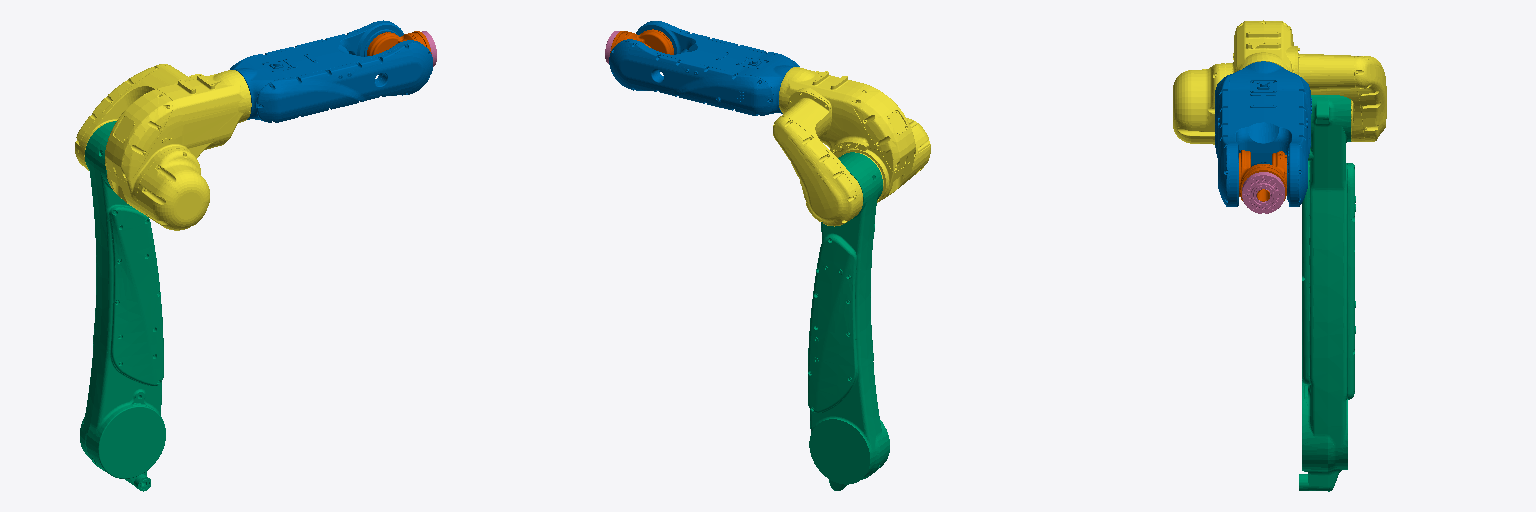
The robot description file, URDF, robot "mz25":
<?xml version="1.0" encoding="utf-8"?>
<!-- =================================================================================== -->
<!-- |    This document was autogenerated by xacro from mz25_arm.urdf.xacro            | -->
<!-- |    EDITING THIS FILE BY HAND IS NOT RECOMMENDED                                 | -->
<!-- =================================================================================== -->
<robot name="mz25">
  <!-- for simulation -->
  <!--  <xacro:include filename="$(find franka_description)/robots/panda.gazebo.xacro"/>-->
  <!--  <xacro:include filename="panda.transmission.xacro"/>-->
  <!-- end for simulation -->
  <!-- for simulation -->
  <!--    <link name="world" />-->
  <!--    <joint name="robot_to_world" type="fixed">-->
  <!--      <parent link="world" />-->
  <!--      <child link="${arm_id}_link0" />-->
  <!--      <origin xyz="0.0 0.0 0.0" rpy="0.0 0.0 0.0" />-->
  <!--    </joint>-->
  <!-- end for simulation -->

  <mujoco>
    <compiler meshdir="[local-path]/RoRL/roworld/envs/assets/mz25_sim/meshes/"
              balanceinertia="true"
              strippath="false"
              discardvisual="false"/>
  </mujoco>

  <link name="mz25_link0">
    <visual>
      <geometry>
        <mesh filename="visual/link0.stl"/>
      </geometry>
    </visual>
    <collision>
      <geometry>
        <mesh filename="collision/link0.stl"/>
      </geometry>
    </collision>
    <!-- for simulation -->
    <inertial>
      <origin rpy="0 0 0" xyz="0 0 0"/>
      <mass value="3.06"/>
      <inertia ixx="0.3" ixy="0.0" ixz="0.0" iyy="0.3" iyz="0.0" izz="0.3"/>
    </inertial>
    <!-- end for simulation -->
  </link>
  <link name="mz25_link1">
    <visual>
      <geometry>
        <mesh filename="visual/link1.stl"/>
      </geometry>
    </visual>
    <collision>
      <geometry>
        <mesh filename="collision/link1.stl"/>
      </geometry>
    </collision>
    <!-- for simulation -->
    <inertial>
      <origin rpy="0 0 0" xyz="0 0 0"/>
      <mass value="2.34"/>
      <inertia ixx="0.3" ixy="0.0" ixz="0.0" iyy="0.3" iyz="0.0" izz="0.3"/>
    </inertial>
    <!-- end for simulation -->
  </link>
  <joint name="mz25_joint1" type="revolute">
    <safety_controller k_position="100.0" k_velocity="40.0" soft_lower_limit="-2.97" soft_upper_limit="2.97"/>
    <origin rpy="0 0 0" xyz="0 0 0.2495"/>
    <parent link="mz25_link0"/>
    <child link="mz25_link1"/>
    <axis xyz="0 0 1"/>
    <limit effort="400" lower="-2.97" upper="2.97" velocity="3.67"/>
    <!-- for simulation -->
    <dynamics damping="1.0"/>
    <!-- end for simulation -->
  </joint>
  <link name="mz25_link2">
    <visual>
      <geometry>
        <mesh filename="visual/link2.stl"/>
      </geometry>
    </visual>
    <collision>
      <geometry>
        <mesh filename="collision/link2.stl"/>
      </geometry>
    </collision>
    <!-- for simulation -->
    <inertial>
      <origin rpy="0 0 0" xyz="0 0 0"/>
      <mass value="23.6"/>
      <inertia ixx="0.3" ixy="0.0" ixz="0.0" iyy="0.3" iyz="0.0" izz="0.3"/>
    </inertial>
    <!-- end for simulation -->
  </link>
  <joint name="mz25_joint2" type="revolute">
    <safety_controller k_position="100.0" k_velocity="40.0" soft_lower_limit="-2.62" soft_upper_limit="1.83"/>
    <origin rpy="0 0 -1.57079632679" xyz="0.17 0.157 0.3005"/>
    <parent link="mz25_link1"/>
    <child link="mz25_link2"/>
    <axis xyz="1 0 0"/>
    <limit effort="400" lower="-2.62" upper="1.83" velocity="3.23"/>
    <!-- for simulation -->
    <dynamics damping="1.0"/>
    <!-- end for simulation -->
  </joint>
  <link name="mz25_link3">
    <visual>
      <geometry>
        <mesh filename="visual/link3.stl"/>
      </geometry>
    </visual>
    <collision>
      <geometry>
        <mesh filename="collision/link3.stl"/>
      </geometry>
    </collision>
    <!-- for simulation -->
    <inertial>
      <origin rpy="0 0 0" xyz="0 0 0"/>
      <mass value="23.8"/>
      <inertia ixx="0.3" ixy="0.0" ixz="0.0" iyy="0.3" iyz="0.0" izz="0.3"/>
    </inertial>
    <!-- end for simulation -->
  </link>
  <joint name="mz25_joint3" type="revolute">
    <safety_controller k_position="100.0" k_velocity="40.0" soft_lower_limit="-1.43" soft_upper_limit="3.21"/>
    <origin rpy="0 0 1.57079632679" xyz="0.157 0 0.88"/>
    <parent link="mz25_link2"/>
    <child link="mz25_link3"/>
    <axis xyz="0 -1 0"/>
    <limit effort="400" lower="-1.43" upper="3.21" velocity="4.71"/>
    <!-- for simulation -->
    <dynamics damping="1.0"/>
    <!-- end for simulation -->
  </joint>
  <link name="mz25_link4">
    <visual>
      <geometry>
        <mesh filename="visual/link4.stl"/>
      </geometry>
    </visual>
    <collision>
      <geometry>
        <mesh filename="collision/link4.stl"/>
      </geometry>
    </collision>
    <!-- for simulation -->
    <inertial>
      <origin rpy="0 0 0" xyz="0 0 0"/>
      <mass value="24.3"/>
      <inertia ixx="0.3" ixy="0.0" ixz="0.0" iyy="0.3" iyz="0.0" izz="0.3"/>
    </inertial>
    <!-- end for simulation -->
  </link>
  <joint name="mz25_joint4" type="revolute">
    <safety_controller k_position="100.0" k_velocity="40.0" soft_lower_limit="-3.32" soft_upper_limit="3.32"/>
    <origin rpy="0 0 0" xyz="0.81 0 0.19"/>
    <parent link="mz25_link3"/>
    <child link="mz25_link4"/>
    <axis xyz="1 0 0"/>
    <limit effort="400" lower="-3.32" upper="3.32" velocity="7.33"/>
    <!-- for simulation -->
    <dynamics damping="1.0"/>
    <!-- end for simulation -->
  </joint>
  <link name="mz25_link5">
    <visual>
      <geometry>
        <mesh filename="visual/link5.stl"/>
      </geometry>
    </visual>
    <collision>
      <geometry>
        <mesh filename="collision/link5.stl"/>
      </geometry>
    </collision>
    <!-- for simulation -->
    <inertial>
      <origin rpy="0 0 0" xyz="0 0 0"/>
      <mass value="35"/>
      <inertia ixx="0.3" ixy="0.0" ixz="0.0" iyy="0.3" iyz="0.0" izz="0.3"/>
    </inertial>
    <!-- end for simulation -->
  </link>
  <joint name="mz25_joint5" type="revolute">
    <safety_controller k_position="100.0" k_velocity="40.0" soft_lower_limit="-2.53" soft_upper_limit="2.53"/>
    <origin rpy="0 0 0" xyz="0 0 0"/>
    <parent link="mz25_link4"/>
    <child link="mz25_link5"/>
    <axis xyz="0 -1 0"/>
    <limit effort="60" lower="-2.53" upper="2.53" velocity="7.33"/>
    <!-- for simulation -->
    <dynamics damping="1.0"/>
    <!-- end for simulation -->
  </joint>
  <link name="mz25_link6">
    <visual>
      <geometry>
        <mesh filename="visual/link6.stl"/>
      </geometry>
    </visual>
    <collision>
      <geometry>
        <mesh filename="collision/link6.stl"/>
      </geometry>
    </collision>
    <!-- for simulation -->
    <inertial>
      <origin rpy="0 0 0" xyz="0 0 0"/>
      <mass value="1.47"/>
      <inertia ixx="0.3" ixy="0.0" ixz="0.0" iyy="0.3" iyz="0.0" izz="0.3"/>
    </inertial>
    <!-- end for simulation -->
  </link>
  <joint name="mz25_joint6" type="revolute">
    <safety_controller k_position="100.0" k_velocity="40.0" soft_lower_limit="-6.28" soft_upper_limit="6.28"/>
    <origin rpy="0 0 0" xyz="0.101 0 0"/>
    <parent link="mz25_link5"/>
    <child link="mz25_link6"/>
    <axis xyz="1 0 0"/>
    <limit effort="12" lower="-6.28" upper="6.28" velocity="11.73"/>
    <!-- for simulation -->
    <dynamics damping="1.0"/>
    <!-- end for simulation -->
  </joint>
  <!--  <xacro:panda_gazebo robot_name="$(arg robot_name)" />-->
  <!--  <xacro:panda_transmission robot_name="$(arg robot_name)" load_hand="false" />-->
  <!-- end for simulation -->
</robot>

--- What the picture shows (computed from the rendered views, not written in the file) ---
3 views of the same robot in one strip: view 1: azimuth 30°, elevation 25°; view 2: azimuth 150°, elevation 25°; view 3: azimuth 270°, elevation 25° (orthographic).
Robot: mz25 — 7 links, 6 joints (6 revolute); root link mz25_link0; default pose: every joint at zero.
Visible links, largest first — view 1: mz25_link2, mz25_link3, mz25_link4, mz25_link5; view 2: mz25_link2, mz25_link3, mz25_link4, mz25_link5; view 3: mz25_link2, mz25_link3, mz25_link4, mz25_link6, mz25_link5.
Boxes of the visible links, left/top/right/bottom form: mz25_link2: left=80, top=121, right=165, bottom=491; mz25_link3: left=75, top=64, right=251, bottom=230; mz25_link4: left=230, top=20, right=432, bottom=122; mz25_link5: left=367, top=31, right=431, bottom=55; mz25_link2: left=808, top=152, right=889, bottom=490; mz25_link3: left=773, top=67, right=930, bottom=226; mz25_link4: left=609, top=21, right=799, bottom=115; mz25_link5: left=610, top=29, right=673, bottom=54; mz25_link2: left=1299, top=95, right=1355, bottom=491; mz25_link3: left=1173, top=20, right=1386, bottom=144; mz25_link4: left=1215, top=61, right=1311, bottom=206; mz25_link6: left=1242, top=172, right=1284, bottom=213; mz25_link5: left=1239, top=150, right=1286, bottom=201.
Size in the robot's own frame: 1.05 by 0.5359 by 1.31 metres.
Meshes: 7 distinct files referenced, 5 mesh visuals loaded (5 binary STL); not drawn: 2 (reference not matched to a file when rendering).
